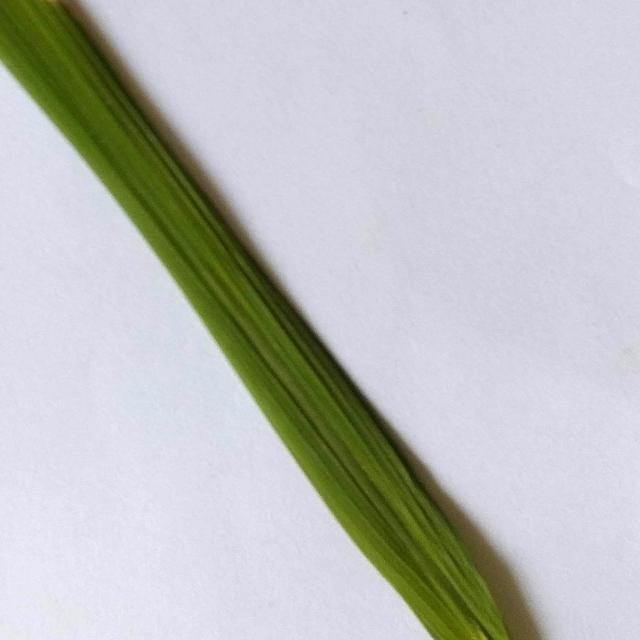healthy: (0, 0, 566, 640)
